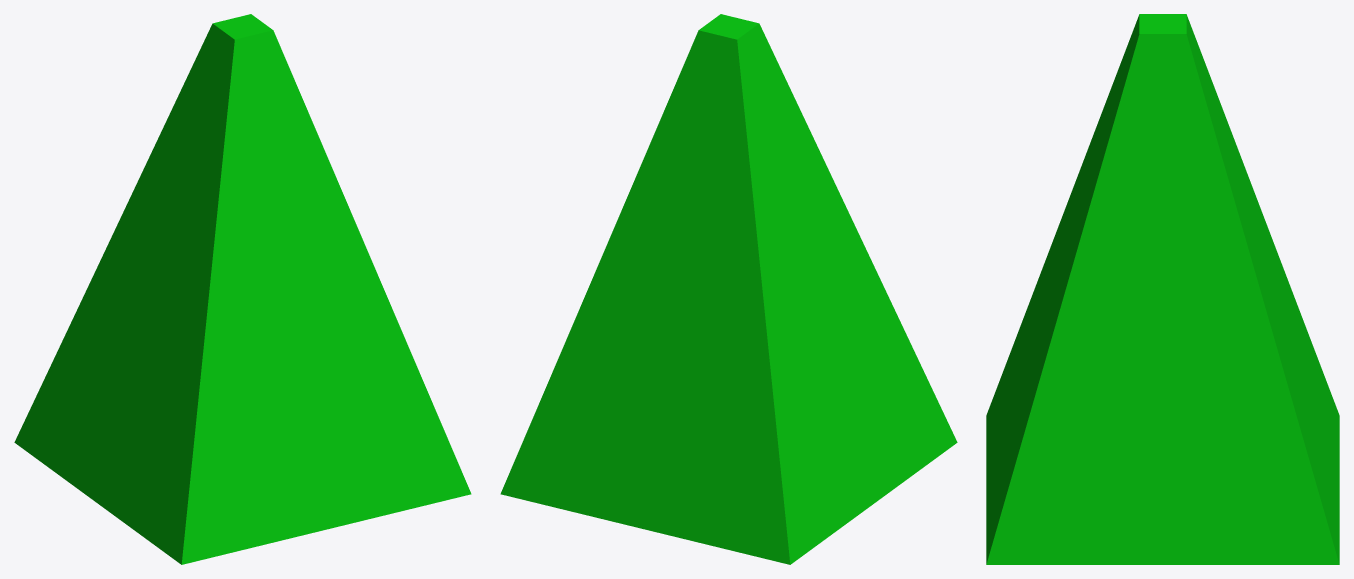
Rendered from prop_cone_collider.FBX.
The picture shows the model from 3 angles, left to right: view 1: azimuth 30°, elevation 25°; view 2: azimuth 150°, elevation 25°; view 3: azimuth 270°, elevation 25°; orthographic projection. The views are drawn at different scales.
Visible parts, largest first — view 1: prop_cone_collider; view 2: prop_cone_collider; view 3: prop_cone_collider.
Part boxes in pixels (x1,y1,x2,y2): prop_cone_collider: (14,14,471,564); prop_cone_collider: (500,14,957,564); prop_cone_collider: (986,14,1339,564).
Size of the model in its own units: 27.05 by 39.37 by 27.03.
